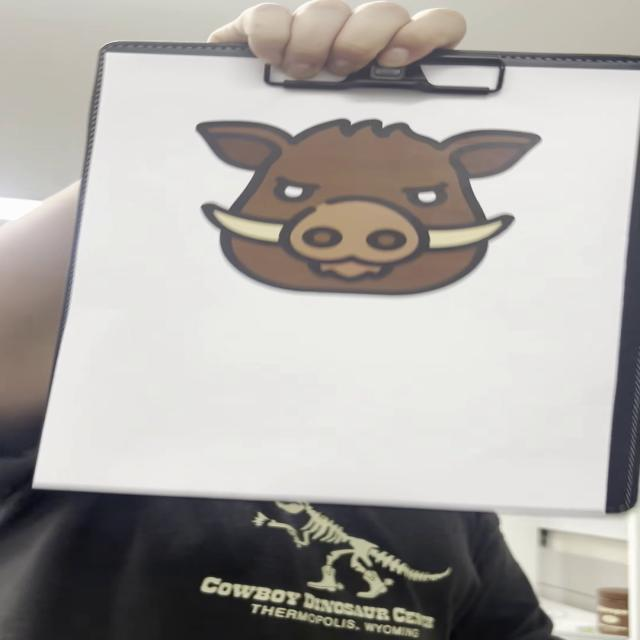animal: (198, 116, 548, 300)
